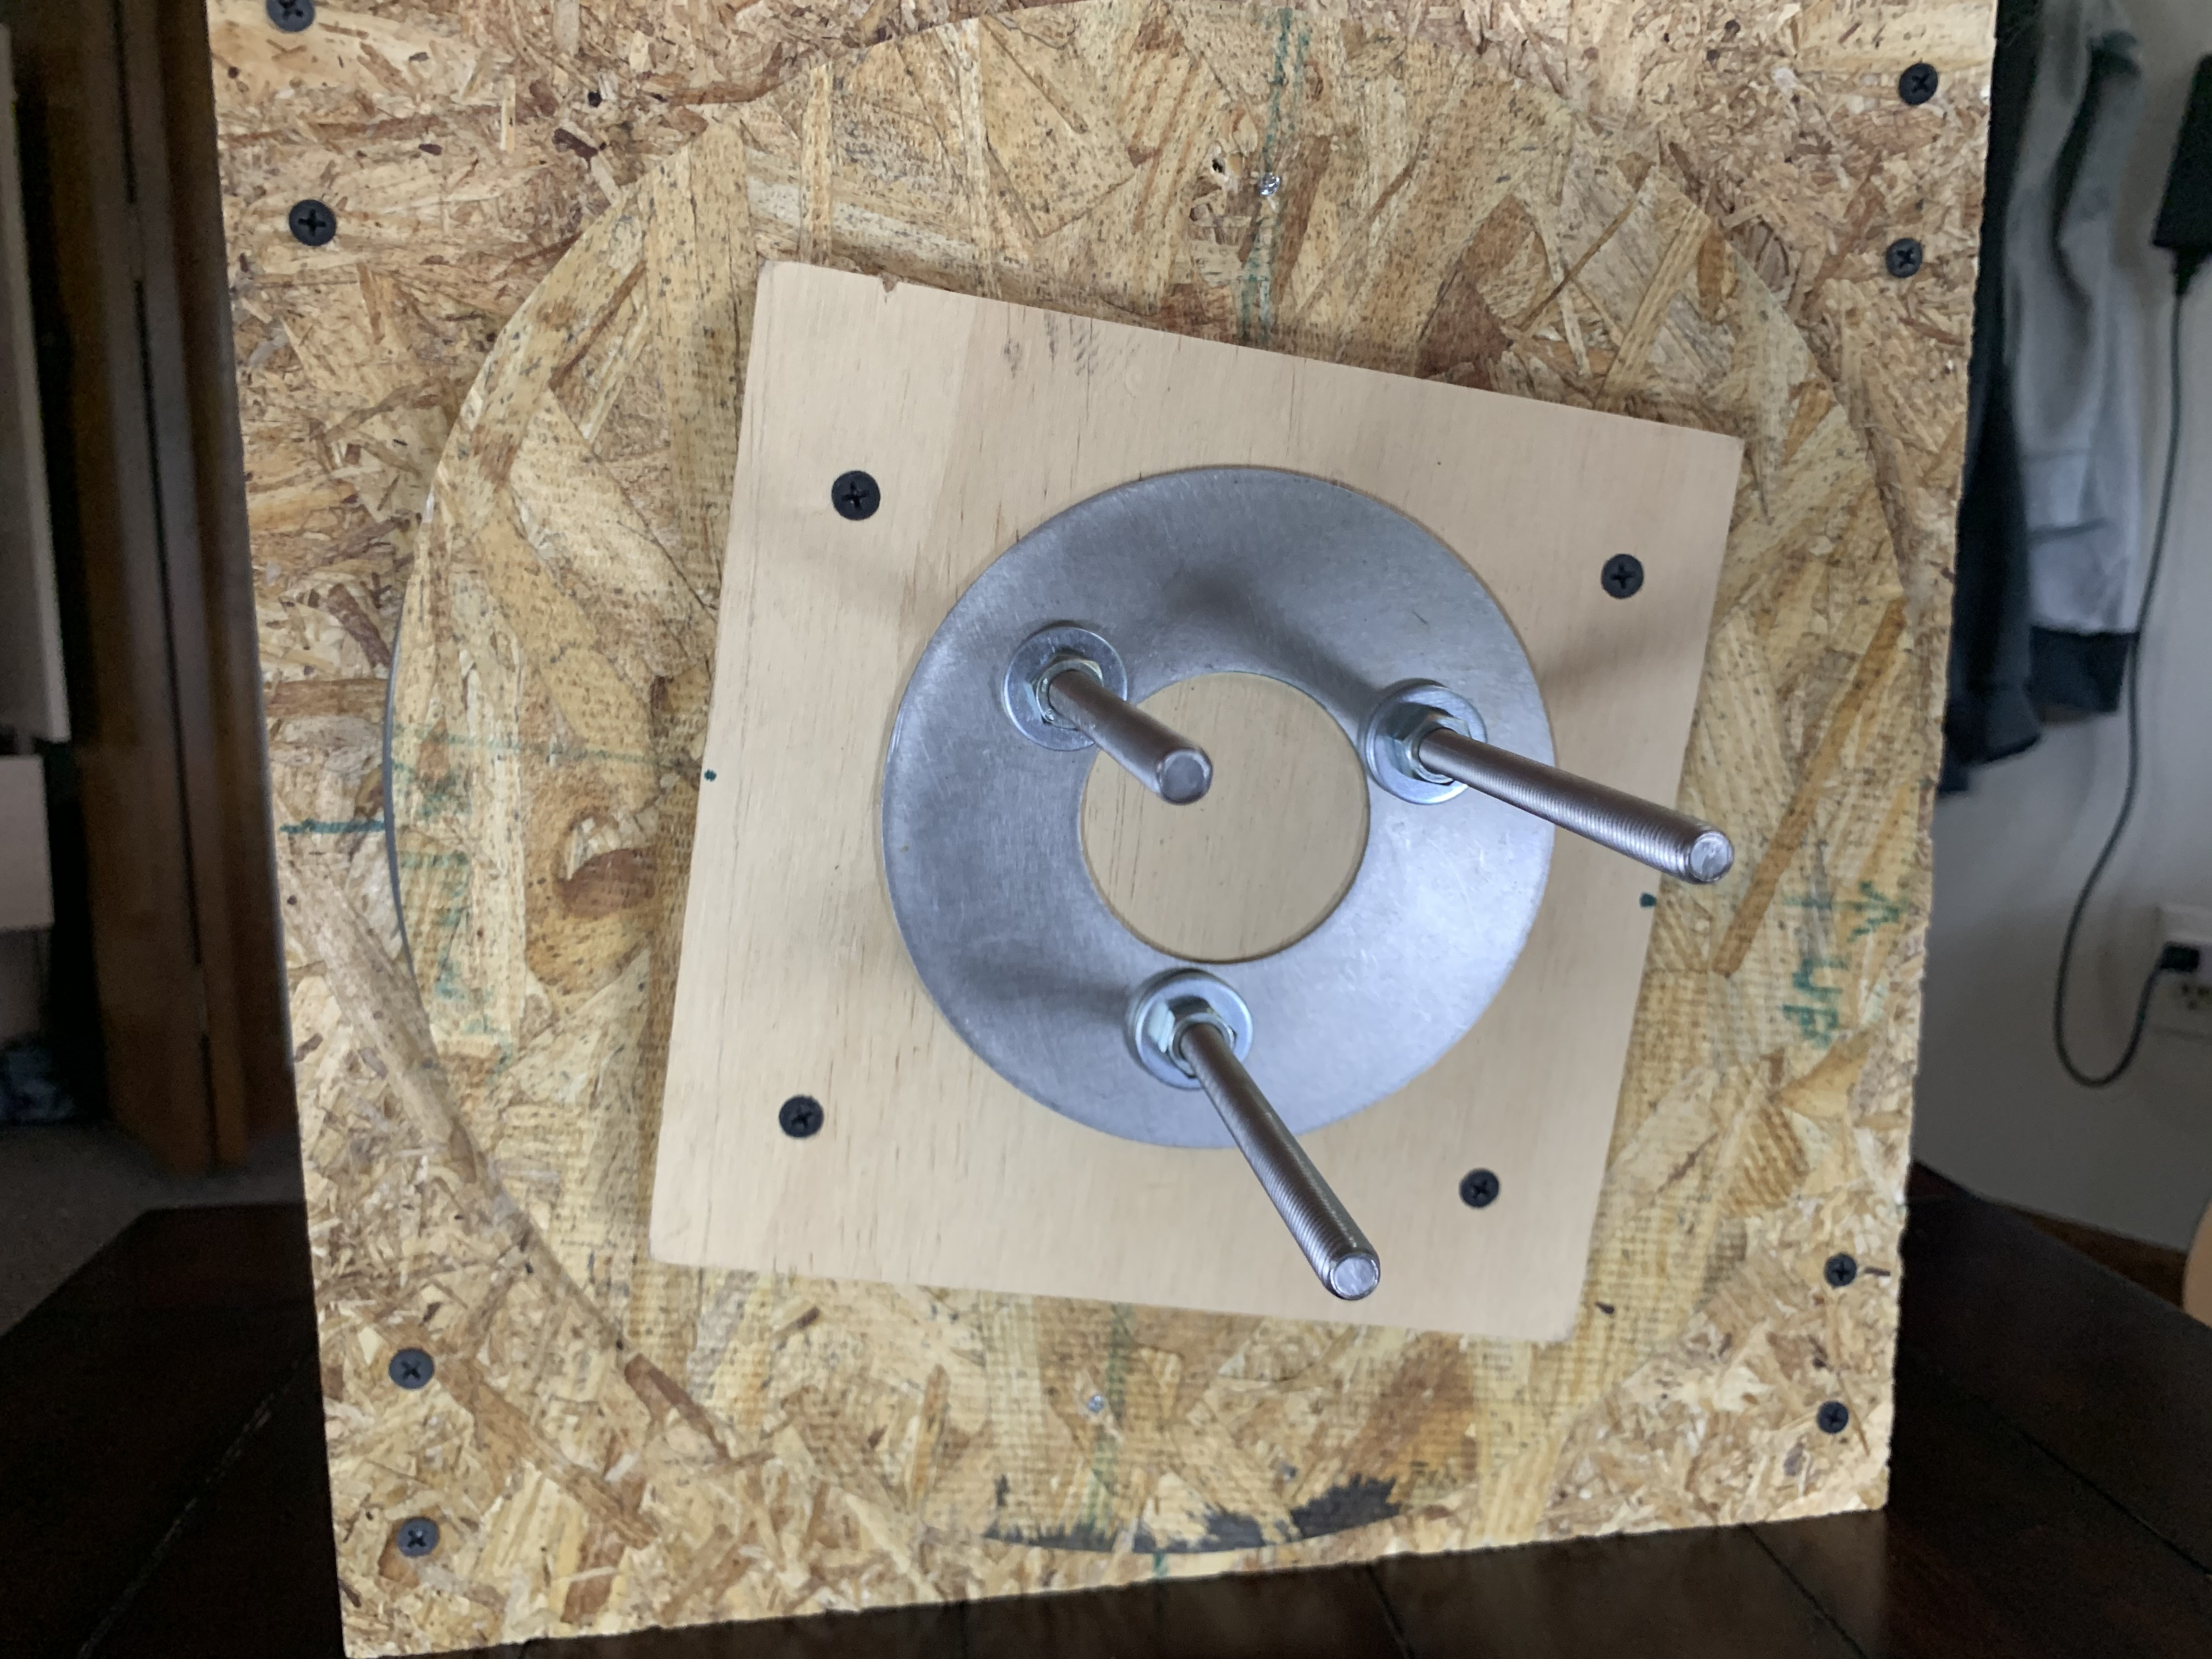bolt: (998, 622, 1134, 760), (1357, 681, 1487, 812), (1118, 965, 1254, 1091)
